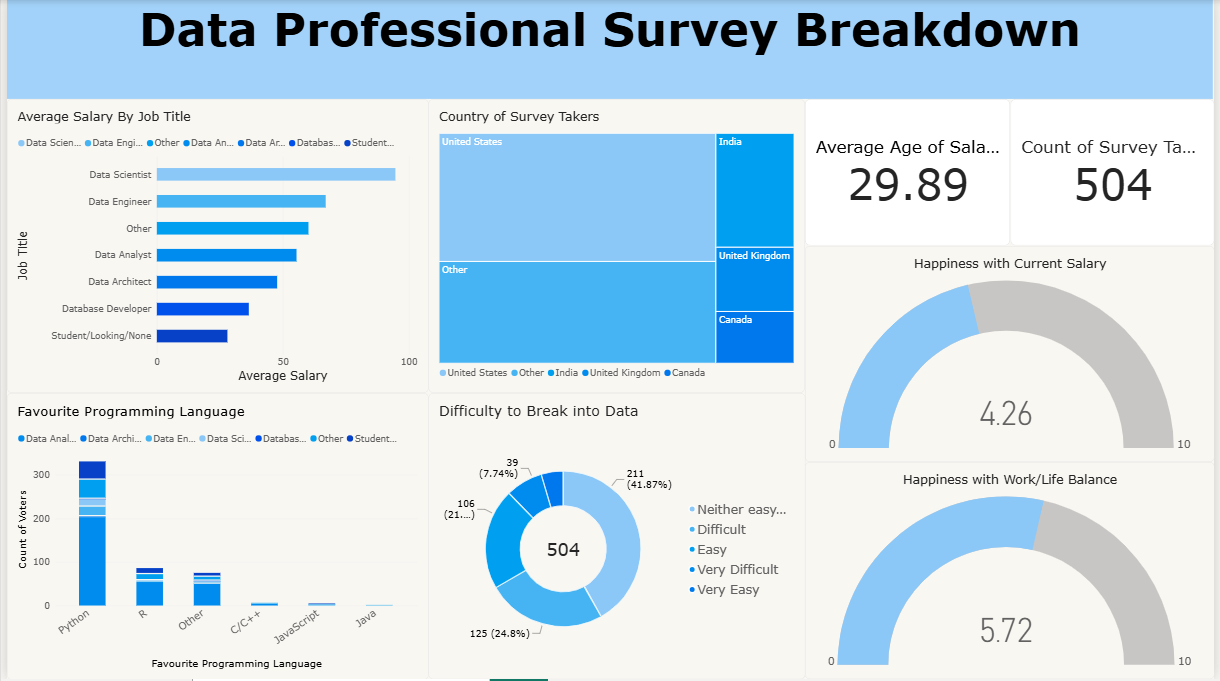

The dashboard page shown, as its layout file describes it:
{"tool":"powerbi","page":{"name":"Data Professional Dashboard","canvas":[1920,1080],"ordinal":0},"visuals":[{"type":"cardVisual","fields":{"Data":["CountNonNull(Data Professional Survey.Unique ID)"]},"box":[1596.2,157.5,324.5,233.8],"z":0},{"type":"textbox","box":[0,0,1918.3,157.5],"z":1000},{"type":"cardVisual","fields":{"Data":["Avg(Data Professional Survey.Q10 - Current Age)"]},"box":[1269.3,157.5,326.9,233.8],"z":2000},{"type":"barChart","title":"Average Salary By Job Title","fields":{"Category":["Data Professional Survey.Q1 - Which Title Best Fits your Current Role?.1"],"Series":["Data Professional Survey.Q1 - Which Title Best Fits your Current Role?.1"],"Y":["Avg(Data Professional Survey.Average Salary)"]},"box":[0,157.5,670.4,467.6],"z":3000},{"type":"columnChart","title":"Favourite Programming Language","fields":{"Category":["Data Professional Survey.Q5 - Favorite Programming Language.1"],"Series":["Data Professional Survey.Q1 - Which Title Best Fits your Current Role?.1"],"Y":["CountNonNull(Data Professional Survey.Unique ID)"]},"box":[0,625.1,670.4,455.7],"z":4000},{"type":"treemap","title":"Country of Survey Takers","fields":{"Group":["Data Professional Survey.Q11 - Which Country do you live in?.1"],"Values":["CountNonNull(Data Professional Survey.Q11 - Which Country do you live in?.1)"]},"box":[670.4,157.5,598.9,467.6],"z":5000},{"type":"gauge","title":"Happiness with Current Salary","fields":{"MaxValue":["Max(Data Professional Survey.Q6 - How Happy are you in your Current Position with the following? (Salary))2"],"MinValue":["Min(Data Professional Survey.Q6 - How Happy are you in your Current Position with the following? (Salary))1"],"Y":["Avg(Data Professional Survey.Q6 - How Happy are you in your Current Position with the following? (Salary))"]},"box":[1269.3,391.3,651.4,343.6],"z":6000},{"type":"donutChart","title":"Difficulty to Break into Data","fields":{"Category":["Data Professional Survey.Q7 - How difficult was it for you to break into Data?"],"Y":["CountNonNull(Data Professional Survey.Q7 - How difficult was it for you to break into Data?)"]},"box":[670,625,599,455],"z":7000},{"type":"gauge","title":"Happiness with Work/Life Balance","fields":{"MaxValue":["Max(Data Professional Survey.Q6 - How Happy are you in your Current Position with the following? (Work/Life Balance))2"],"MinValue":["Min(Data Professional Survey.Q6 - How Happy are you in your Current Position with the following? (Work/Life Balance))1"],"Y":["Avg(Data Professional Survey.Q6 - How Happy are you in your Current Position with the following? (Work/Life Balance))"]},"box":[1269,735,651,345],"z":8000}]}

Visuals, with their boxes in screenshot pixels (x1, y1, x2, y2), scaled from the page's 1920x1080 canvas onto the 1220x681 screenshot:
cardVisual - CountNonNull(Data Professional Survey.Unique ID): rect(1014, 99, 1219, 247)
textbox: rect(0, 0, 1219, 99)
cardVisual - Avg(Data Professional Survey.Q10 - Current Age): rect(807, 99, 1014, 247)
"Average Salary By Job Title" barChart: rect(0, 99, 426, 394)
"Favourite Programming Language" columnChart: rect(0, 394, 426, 680)
"Country of Survey Takers" treemap: rect(426, 99, 807, 394)
"Happiness with Current Salary" gauge: rect(807, 247, 1219, 463)
"Difficulty to Break into Data" donutChart: rect(426, 394, 806, 680)
"Happiness with Work/Life Balance" gauge: rect(806, 463, 1219, 680)
